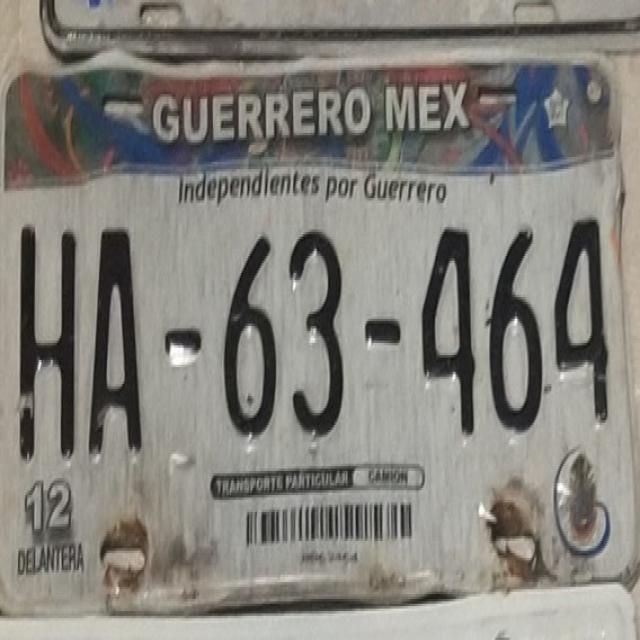placa: (0, 198, 618, 447)
